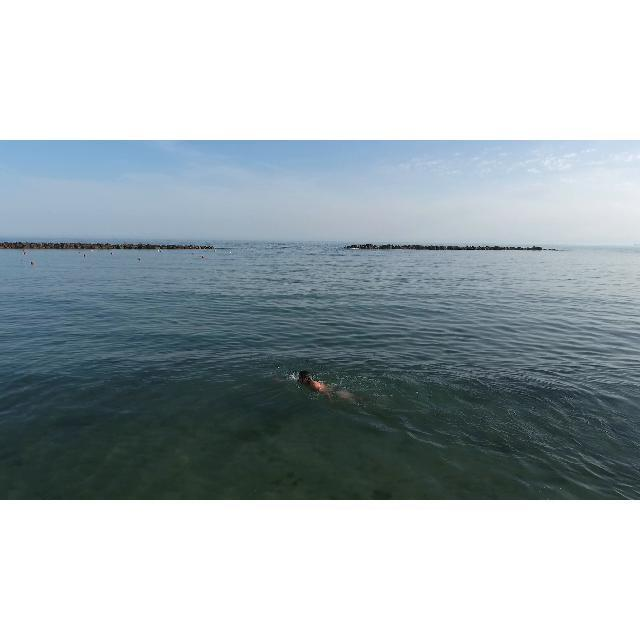human: (279, 368, 356, 400)
